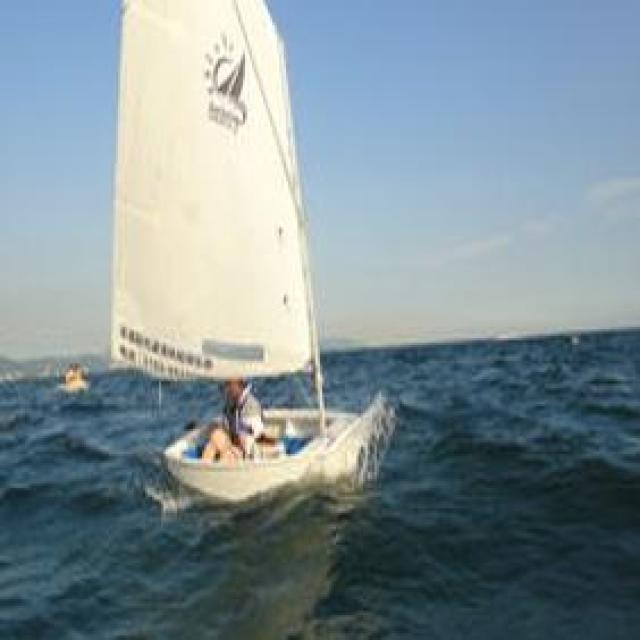sailboat: (102, 0, 406, 520)
